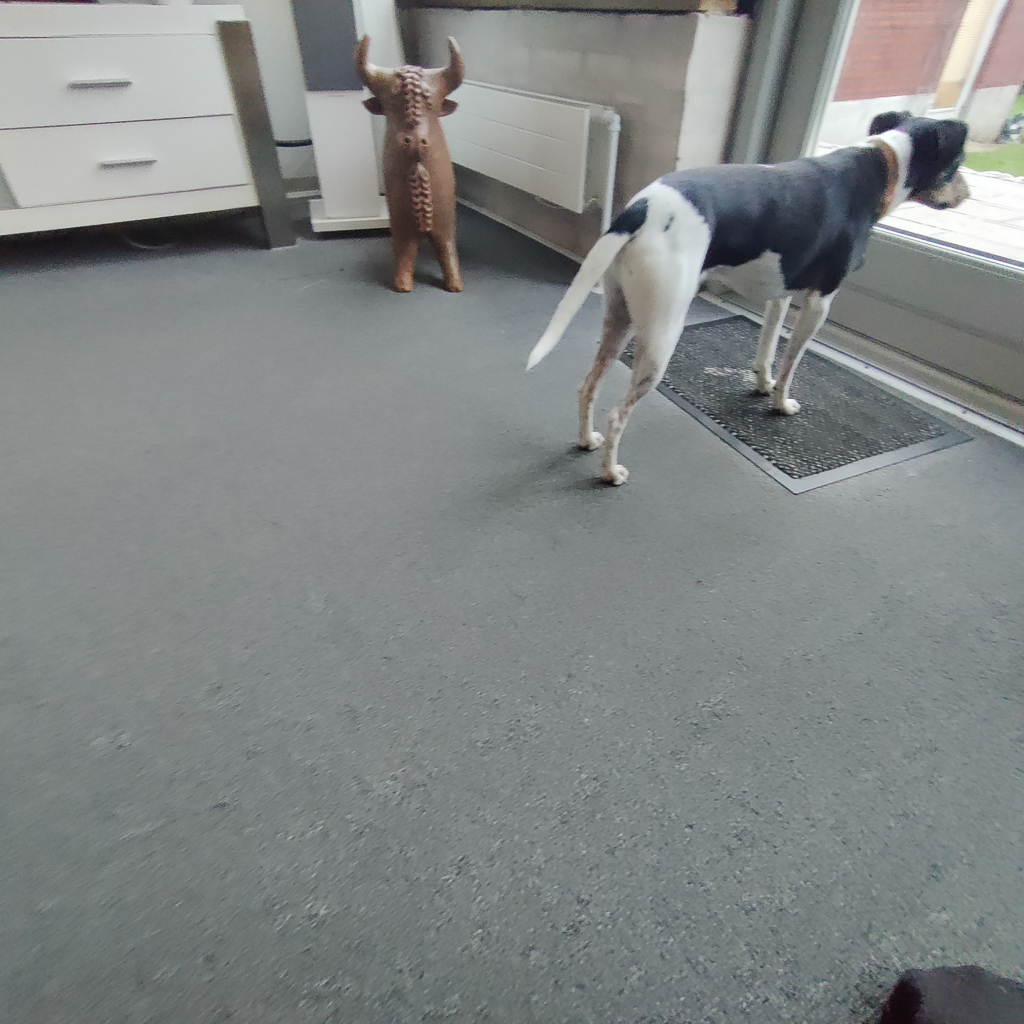Cattle: (343, 18, 485, 304)
Dog: (517, 100, 988, 497)
Humanoid: (992, 107, 1024, 153)
